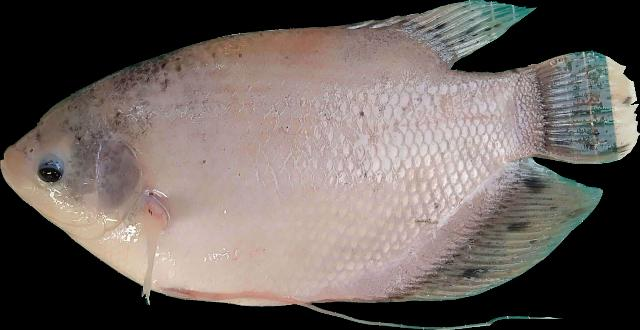Mulut: (1, 109, 52, 225)
Sirip Anal: (337, 158, 618, 314)
Sirip Dada: (108, 183, 184, 327)
Sirip Ekor: (514, 34, 638, 178)
Sirip Punggung: (328, 0, 552, 74)
